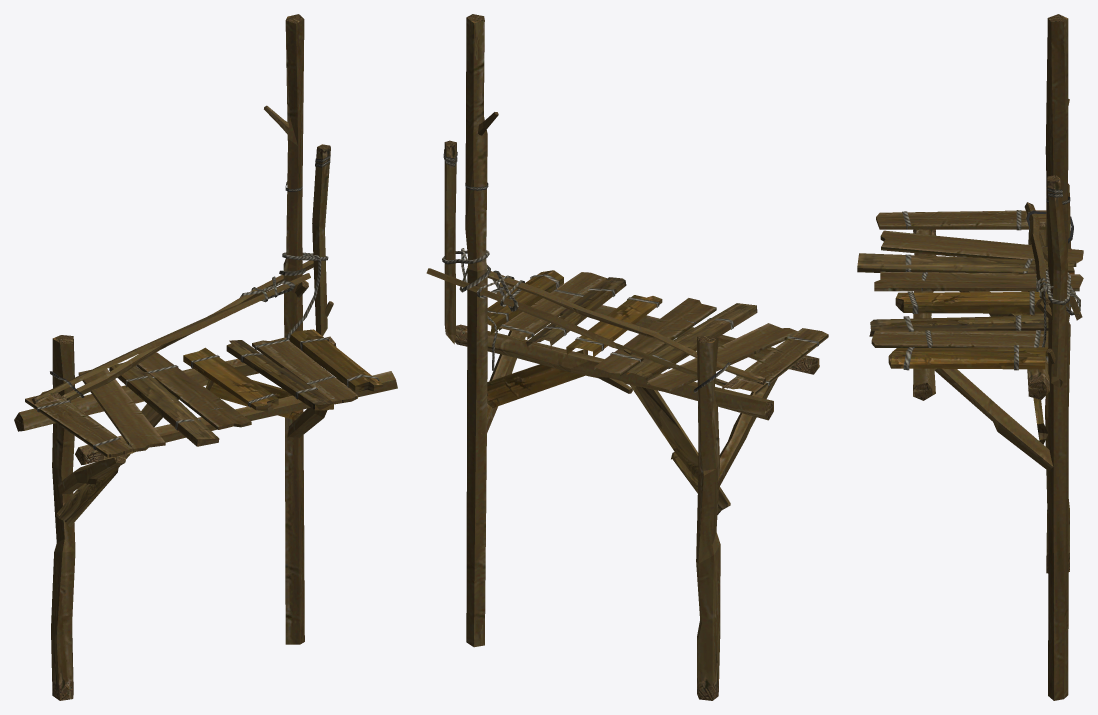
The model's file is 6001_Item_mutou_8.FBX.
3 renders of one model, left to right at view 1: azimuth 30°, elevation 25°; view 2: azimuth 150°, elevation 25°; view 3: azimuth 270°, elevation 25°, orthographic. The views are drawn at different scales.
Visible parts, largest first — view 1: 6001_Item_mutou_8; view 2: 6001_Item_mutou_8; view 3: 6001_Item_mutou_8.
Part boxes in pixels (x1,y1,x2,y2): 6001_Item_mutou_8: (14, 14, 397, 700); 6001_Item_mutou_8: (426, 14, 828, 700); 6001_Item_mutou_8: (857, 14, 1083, 700).
Size of the model in its own units: 473 by 264 by 873.
